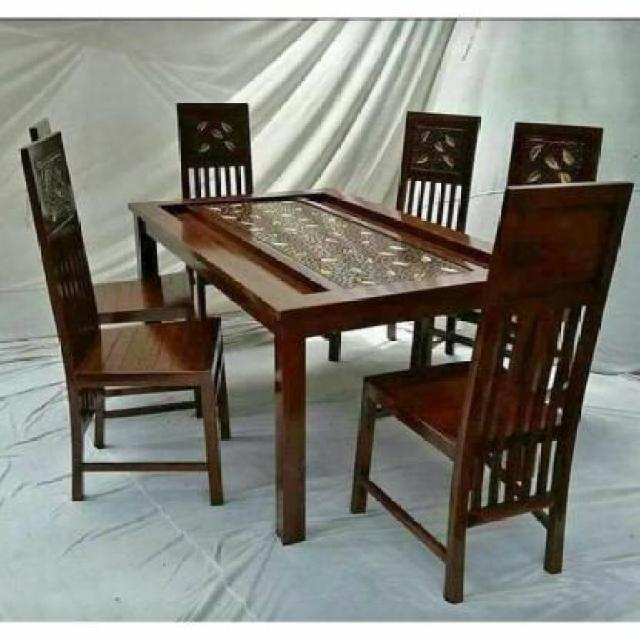tables: (127, 186, 496, 545)
